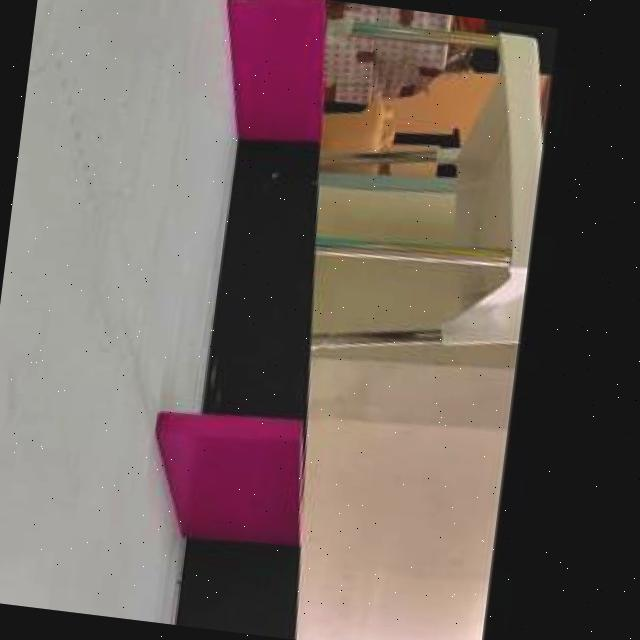xparking: (138, 407, 304, 546), (209, 0, 329, 135)
